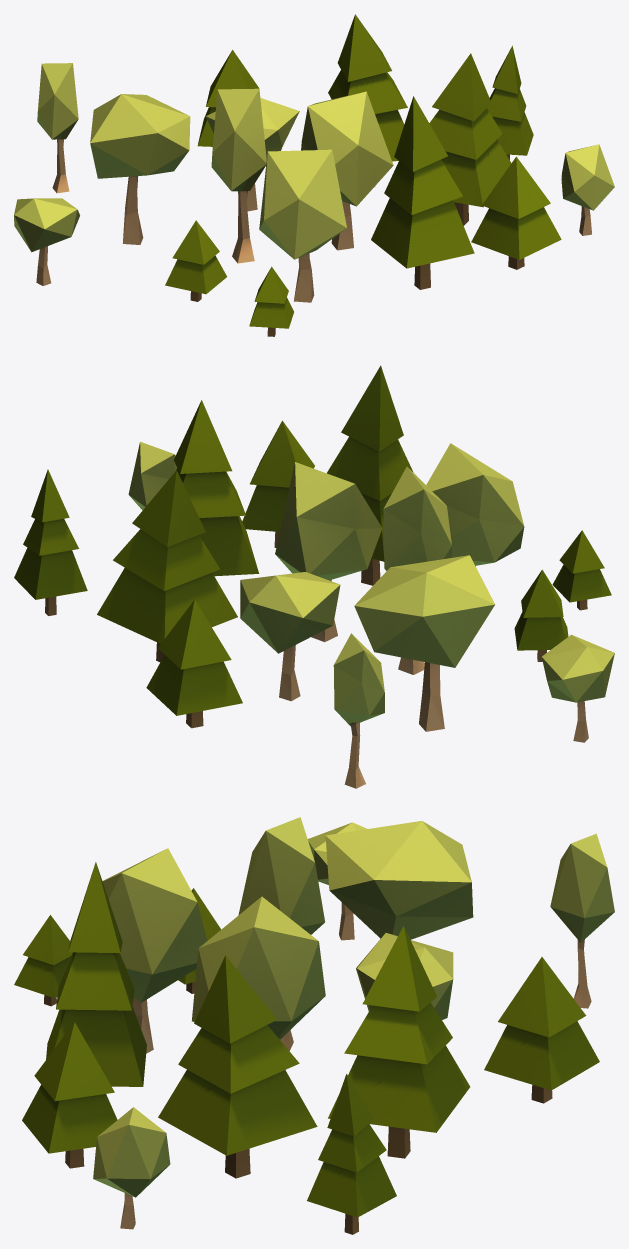
Rendered from PUSHILIN_forest.gltf.
3 views of the same model, one above another, from view 1: azimuth 30°, elevation 25°; view 2: azimuth 150°, elevation 25°; view 3: azimuth 270°, elevation 25° (orthographic). The views are drawn at different scales.
Parts seen in each view (by area): view 1: node-0; view 2: node-0; view 3: node-0.
Part boxes in pixels (x1,y1,x2,y2): node-0: (14,14,614,336); node-0: (14,365,614,788); node-0: (14,817,614,1234).
Bounding box in the file's own units: 2.78 × 0.9865 × 2.15.
1 material, 1 textured.
